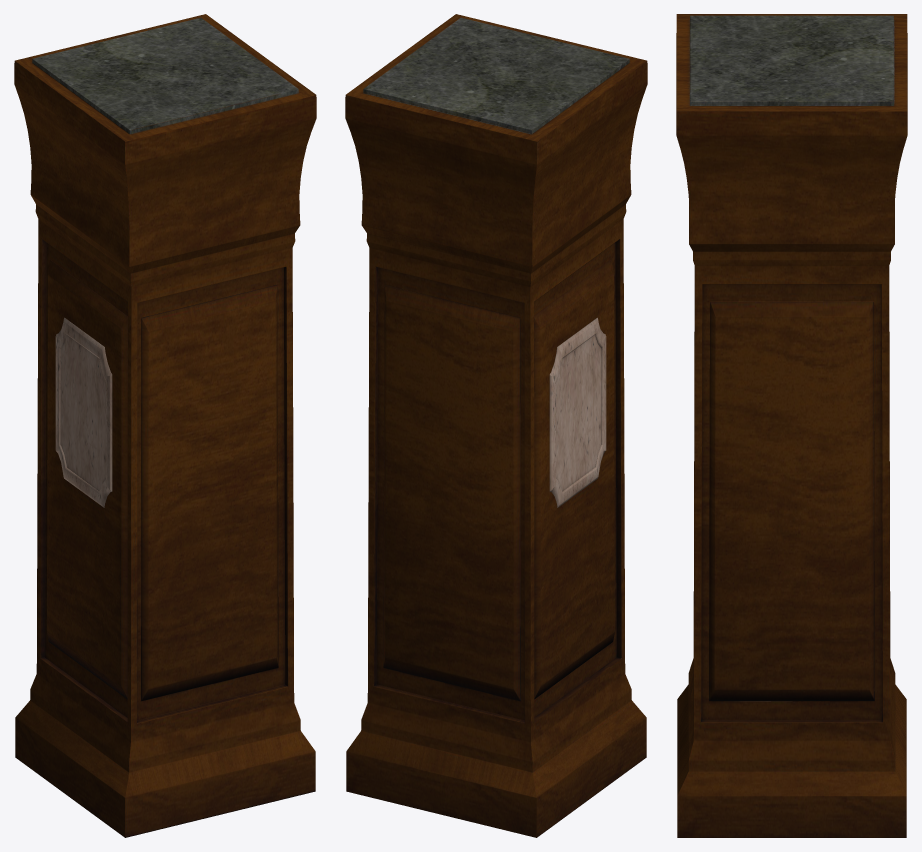
The model's file is MuseumPedestals.fbx.
3 views of the same model, side by side, from view 1: azimuth 30°, elevation 25°; view 2: azimuth 150°, elevation 25°; view 3: azimuth 270°, elevation 25° (orthographic). The views are drawn at different scales.
Parts seen in each view (by area): view 1: MuseumPlinthe01; view 2: MuseumPlinthe01; view 3: MuseumPlinthe01.
Boxes of the visible parts, <box> form: MuseumPlinthe01: <box>14,14,316,837</box>; MuseumPlinthe01: <box>345,14,647,837</box>; MuseumPlinthe01: <box>676,14,907,837</box>.
Bounding box in the file's own units: 36.16 × 126 × 36.16.
Materials: 1 (1 with a texture image).
